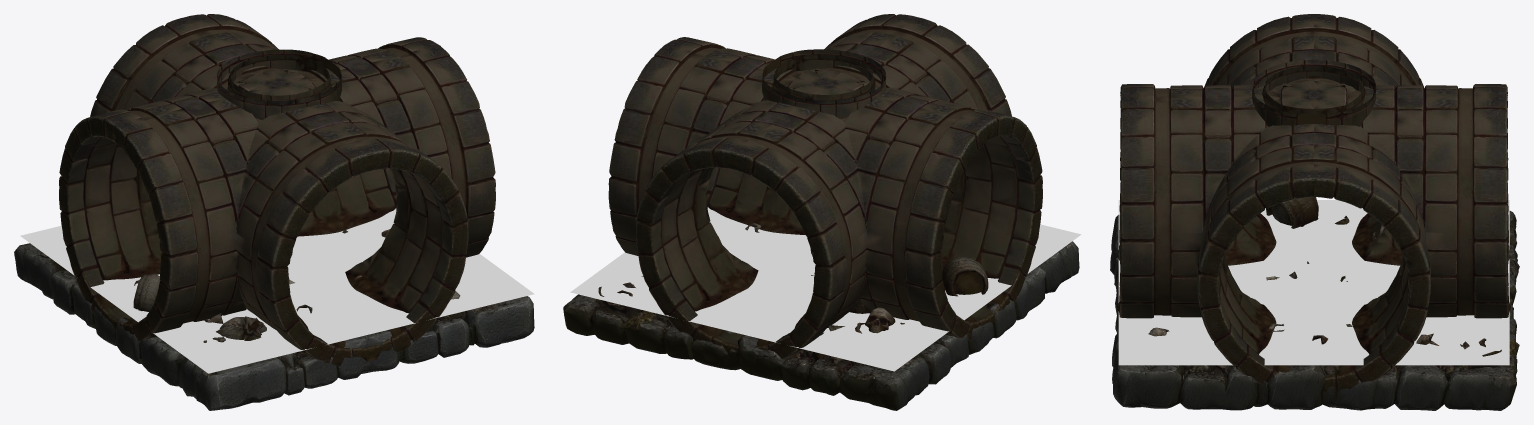
Rendered from Crawlspace_Pipe_Tee.fbx.
The picture shows the model from 3 angles, left to right: view 1: azimuth 30°, elevation 25°; view 2: azimuth 150°, elevation 25°; view 3: azimuth 270°, elevation 25°; orthographic projection. The views are drawn at different scales.
Parts seen in each view (by area): view 1: CrawlSpace_Pipe_Tee; view 2: CrawlSpace_Pipe_Tee; view 3: CrawlSpace_Pipe_Tee.
Boxes of the visible parts, x1,y1,x2,y2 form: CrawlSpace_Pipe_Tee: [14, 14, 534, 410]; CrawlSpace_Pipe_Tee: [563, 14, 1081, 410]; CrawlSpace_Pipe_Tee: [1110, 14, 1519, 410].
Bounding box in the file's own units: 312 × 204 × 314.
5 materials, 3 textured.
